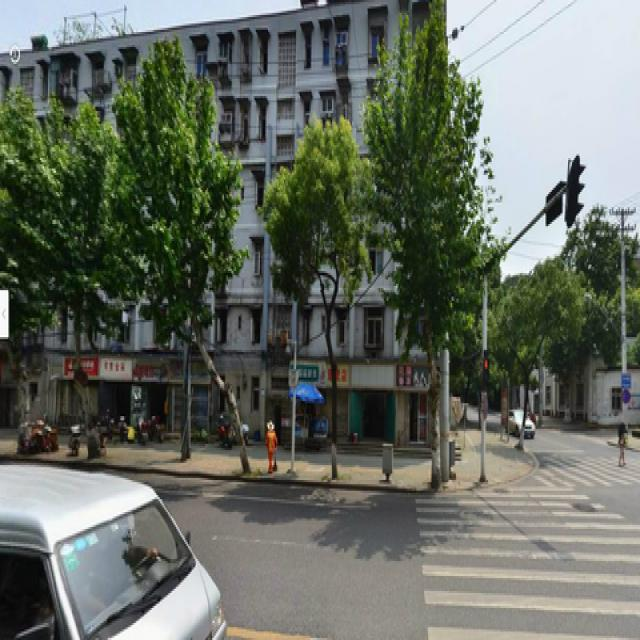cinn: (280, 134, 356, 446)
meta: (127, 70, 257, 459), (370, 62, 466, 480), (9, 124, 119, 435)
